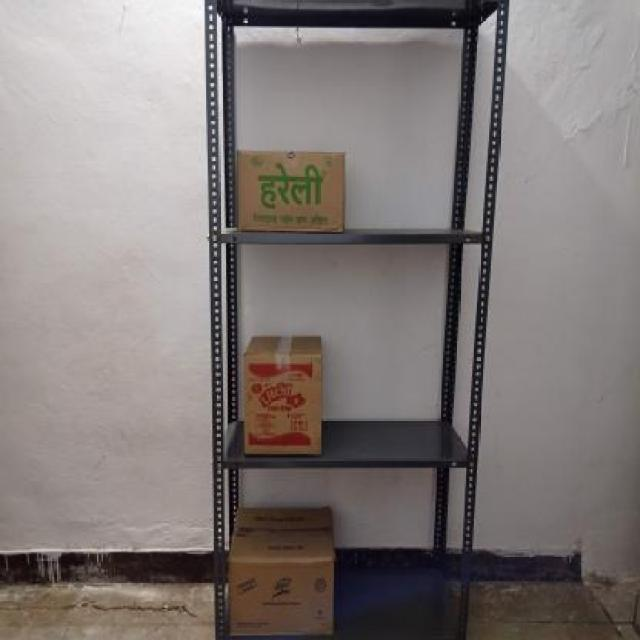box: (236, 149, 344, 235), (244, 352, 323, 457), (229, 559, 334, 633)
